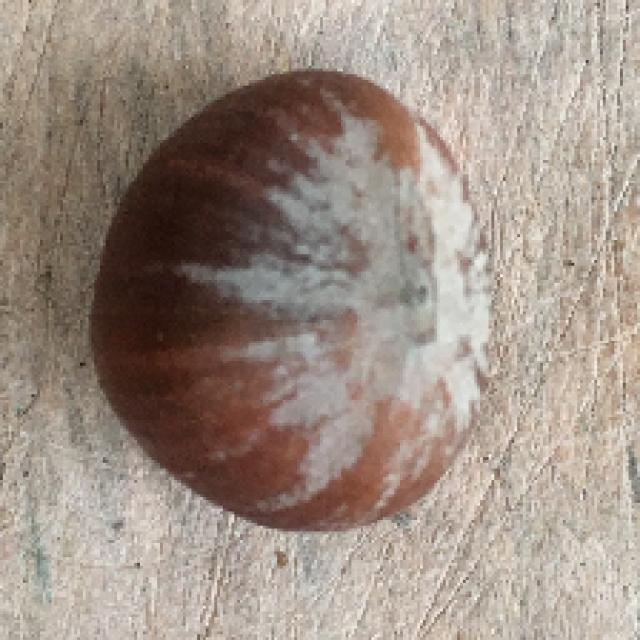qualityHazelnut: (92, 64, 507, 529)
